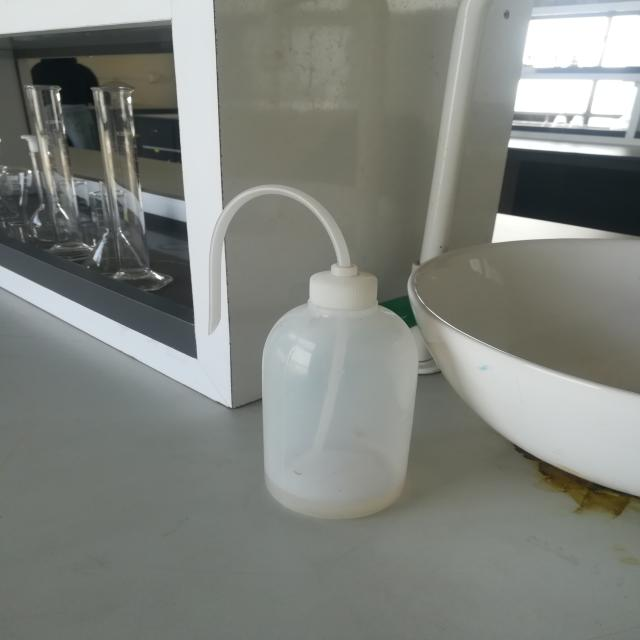Wash_Bottle: (155, 142, 485, 560)
